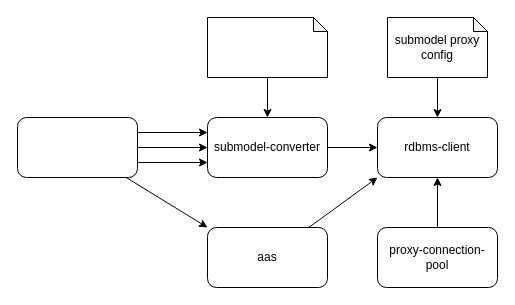
Image size: 515x305. Some labels were removed from this diagram. The centre of each missing label's shape, as x and y in pixels:
"grpc-server" belongs at (x=77, y=147).
"submodel response template" belongs at (x=267, y=47).
